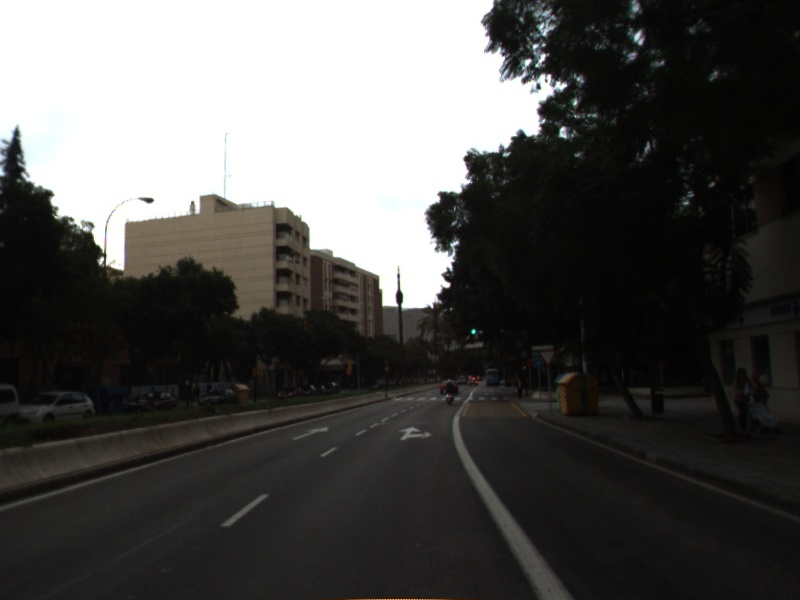STRAIGHT: (289, 424, 330, 442)
STRAIGHT_RIGHT: (396, 423, 436, 442)
